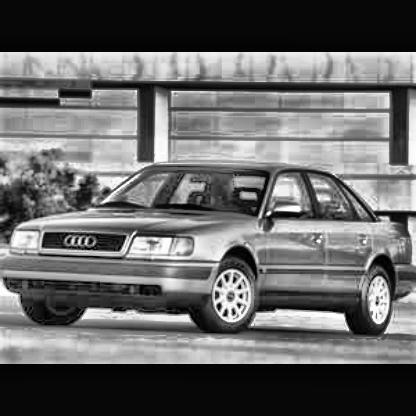Audi 100 Sedan 1994: (2, 162, 416, 332)
